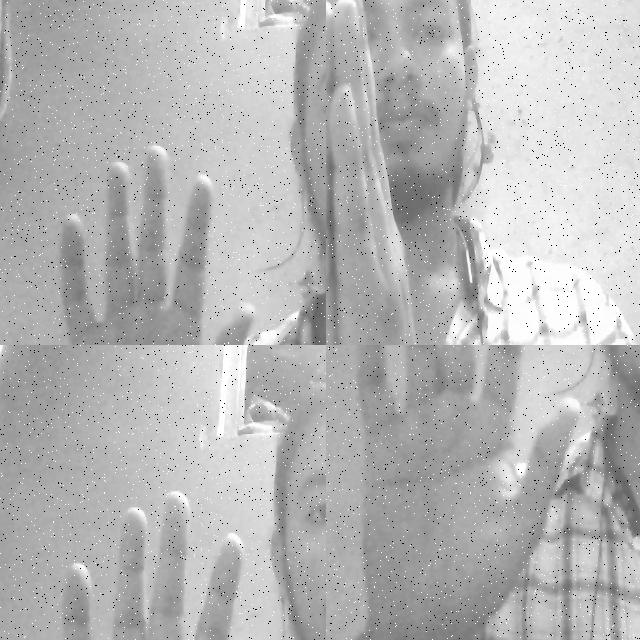Hello: (331, 345, 591, 640), (30, 134, 271, 345), (34, 489, 300, 640)
Thank You: (326, 0, 498, 345)
